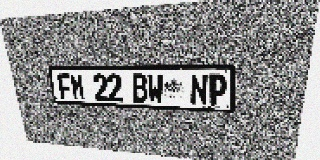2: (107, 74, 123, 102), (93, 74, 109, 101)
B: (131, 74, 148, 103)
F: (57, 74, 73, 100)
M: (69, 74, 86, 100)
N: (190, 74, 208, 105)
P: (208, 74, 227, 106)
W: (147, 74, 164, 103)
